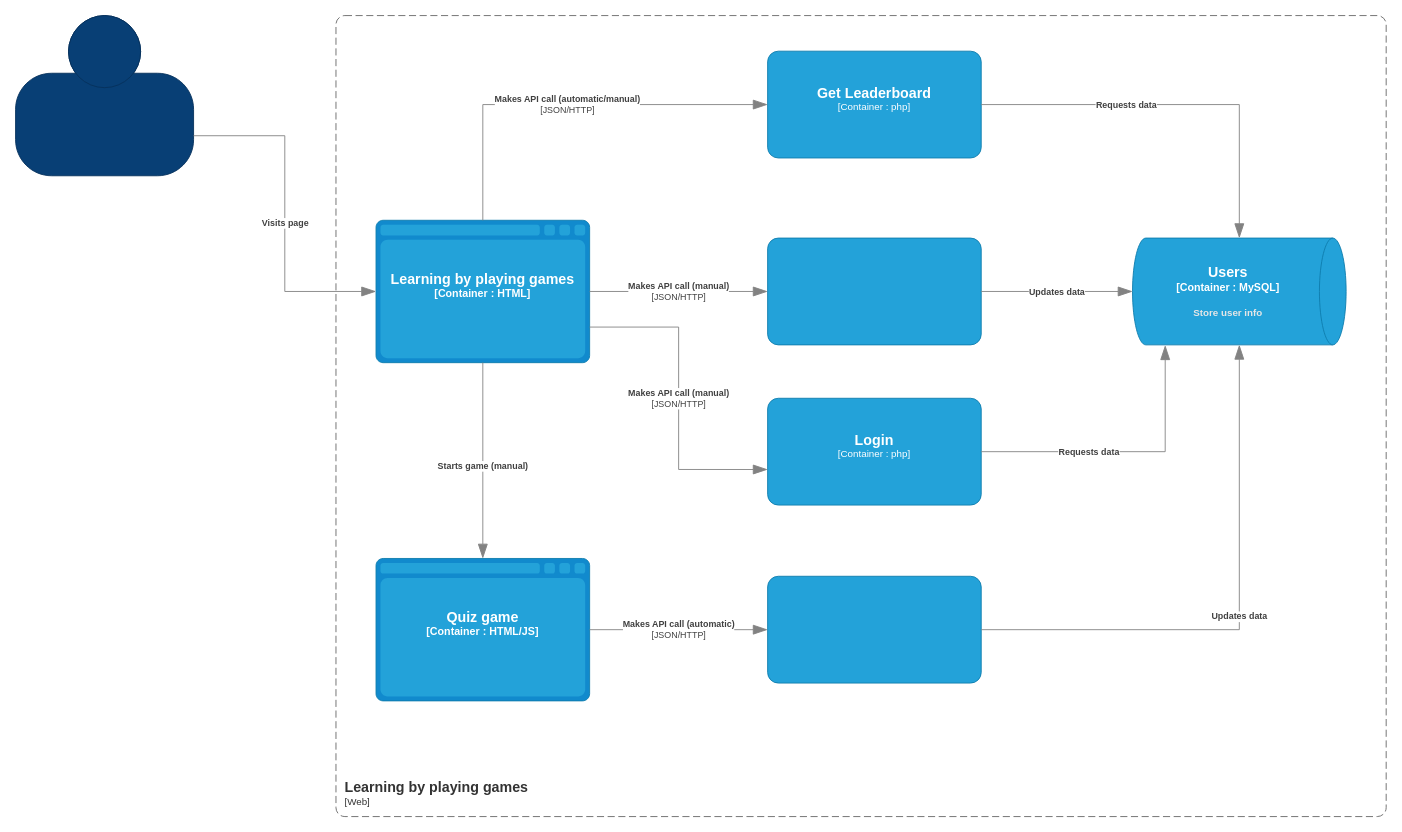
Some shapes in this 1402 by 832 pixel diagram are drawn without their labels. Each missing label, with the box of its shape:
Register [Container : php]: (767, 237, 981, 345)
Update score [Container : php]: (767, 575, 981, 683)
User [Person]: (15, 15, 194, 176)
